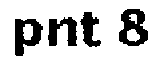8: (113, 4, 151, 51)
n: (48, 17, 78, 49)
p: (11, 13, 45, 60)
t: (80, 10, 106, 51)
